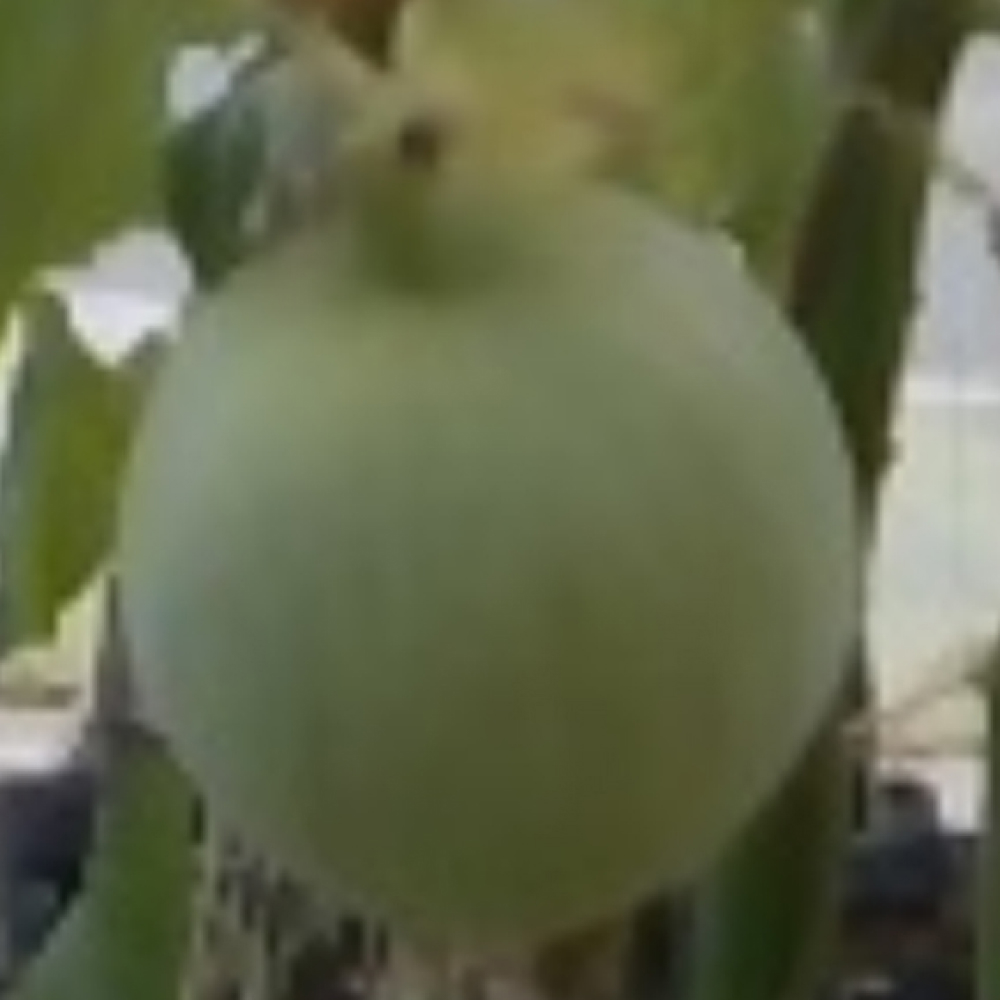melon: (121, 170, 862, 945)
